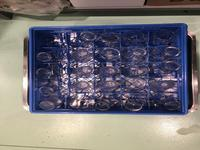Glass: (150, 93, 181, 111), (148, 29, 177, 45), (152, 61, 180, 77), (38, 79, 64, 96), (151, 46, 181, 60), (36, 32, 64, 46), (122, 48, 149, 62), (147, 80, 176, 93), (96, 48, 121, 63), (123, 95, 146, 111), (39, 96, 65, 110), (121, 77, 147, 91), (96, 32, 120, 47), (93, 96, 118, 110), (71, 32, 96, 46), (35, 65, 64, 77), (70, 95, 93, 110), (37, 51, 68, 62), (124, 64, 150, 77), (121, 31, 144, 45), (96, 80, 120, 93), (70, 49, 92, 63), (96, 66, 119, 78), (72, 66, 94, 78), (70, 81, 90, 92)
